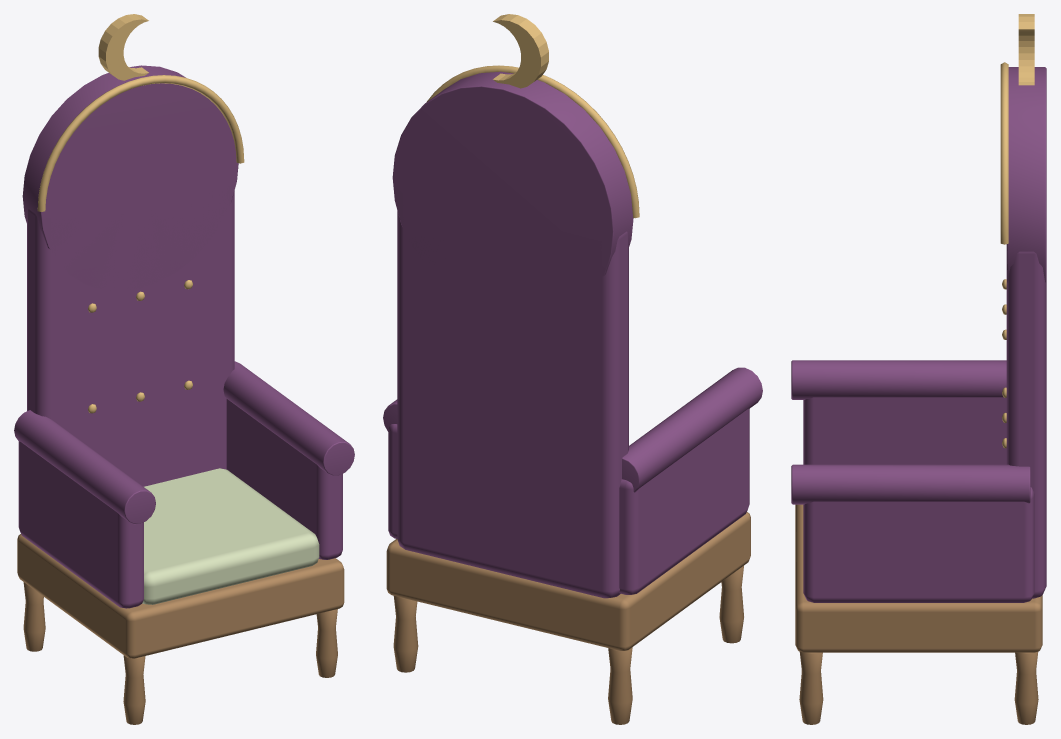
Rendered from Teller_Armchair.fbx.
3 views of the same model, side by side, from view 1: azimuth 30°, elevation 25°; view 2: azimuth 150°, elevation 25°; view 3: azimuth 270°, elevation 25° (orthographic). The views are drawn at different scales.
Parts seen in each view (by area): view 1: Teller_Armchair_Mesh; view 2: Teller_Armchair_Mesh; view 3: Teller_Armchair_Mesh.
Boxes of the visible parts, left/top/right/bottom form: Teller_Armchair_Mesh: left=14, top=14, right=354, bottom=724; Teller_Armchair_Mesh: left=383, top=14, right=762, bottom=724; Teller_Armchair_Mesh: left=791, top=14, right=1046, bottom=724.
Size of the model in its own units: 0.72 by 1.81 by 0.64.
